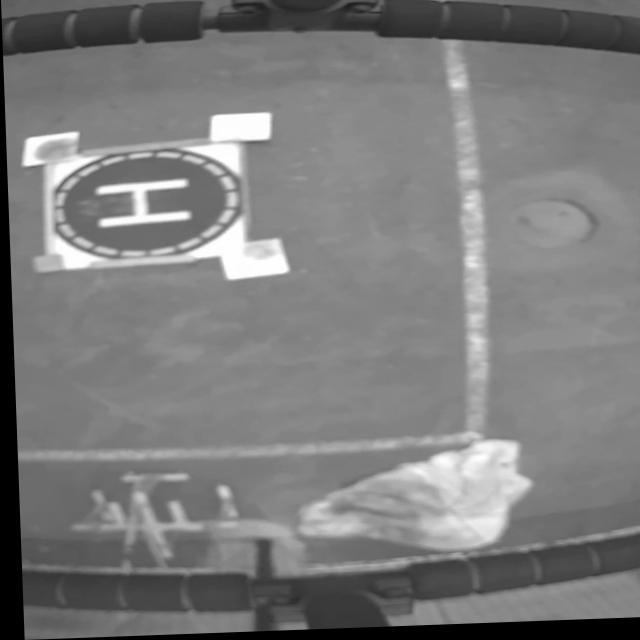Helipad: (94, 180, 189, 228)
